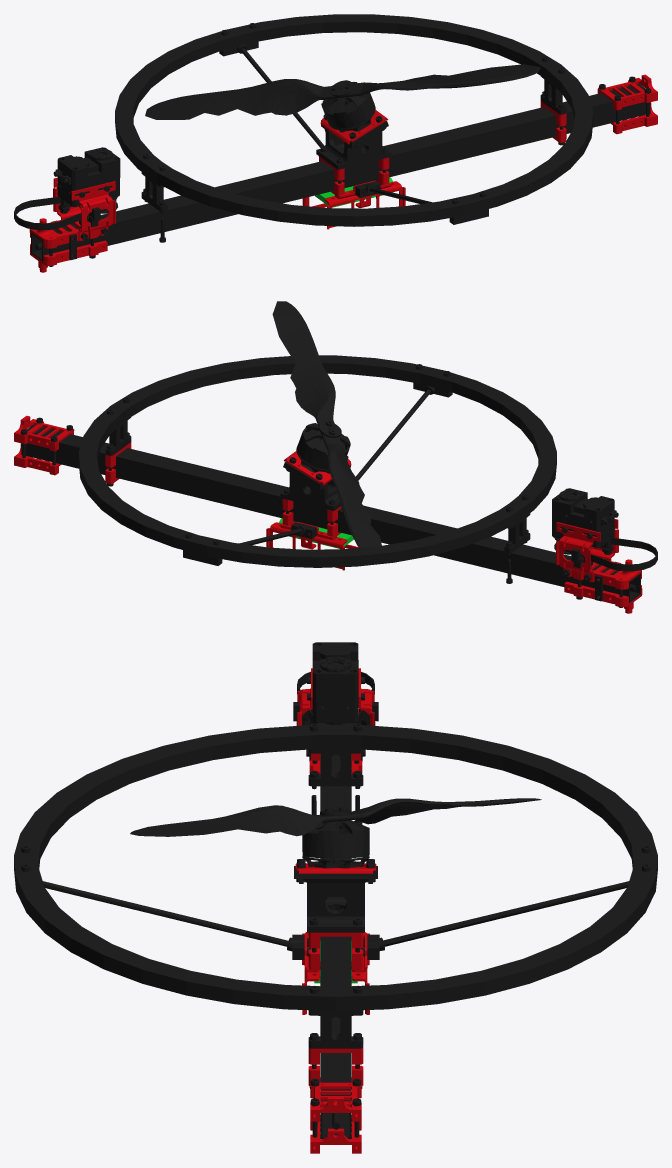
The model's file is tilt_link4.dae.
3 renders of one model, top to bottom at view 1: azimuth 30°, elevation 25°; view 2: azimuth 150°, elevation 25°; view 3: azimuth 270°, elevation 25°, orthographic. The views are drawn at different scales.
Visible parts, largest first — view 1: tilt_link4_balck_part, tilt_link4_red_part; view 2: tilt_link4_balck_part, tilt_link4_red_part; view 3: tilt_link4_balck_part, tilt_link4_red_part.
Part boxes in pixels (bbox=[...]): tilt_link4_balck_part: bbox=[14, 14, 651, 266]; tilt_link4_red_part: bbox=[29, 74, 657, 272]; tilt_link4_balck_part: bbox=[20, 301, 657, 607]; tilt_link4_red_part: bbox=[14, 415, 642, 613]; tilt_link4_balck_part: bbox=[14, 642, 657, 1139]; tilt_link4_red_part: bbox=[295, 668, 376, 1153].
Size of the model in its own units: 0.6083 by 0.3997 by 0.1563.
